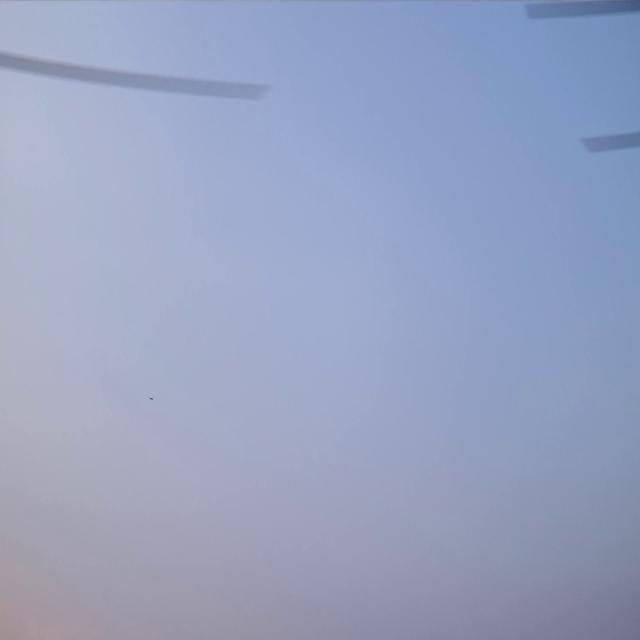UAV: (148, 396, 154, 400)
